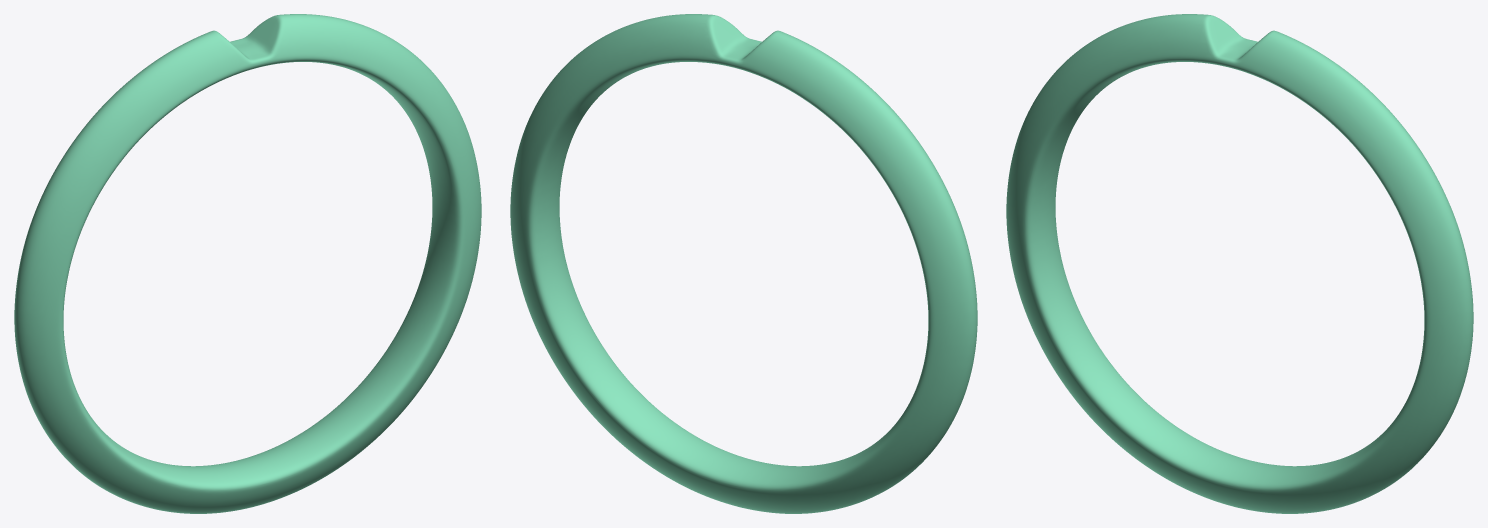
3 renders of one model, left to right at view 1: azimuth 30°, elevation 25°; view 2: azimuth 150°, elevation 25°; view 3: azimuth 330°, elevation 25°, orthographic.
Visible parts, largest first — view 1: Metal02; view 2: Metal02; view 3: Metal02.
Part boxes in pixels (<box>): Metal02: <box>14,14,481,513</box>; Metal02: <box>510,14,977,513</box>; Metal02: <box>1006,14,1473,513</box>.
Bounding box in the file's own units: 20.9 × 20.79 × 2.18.
